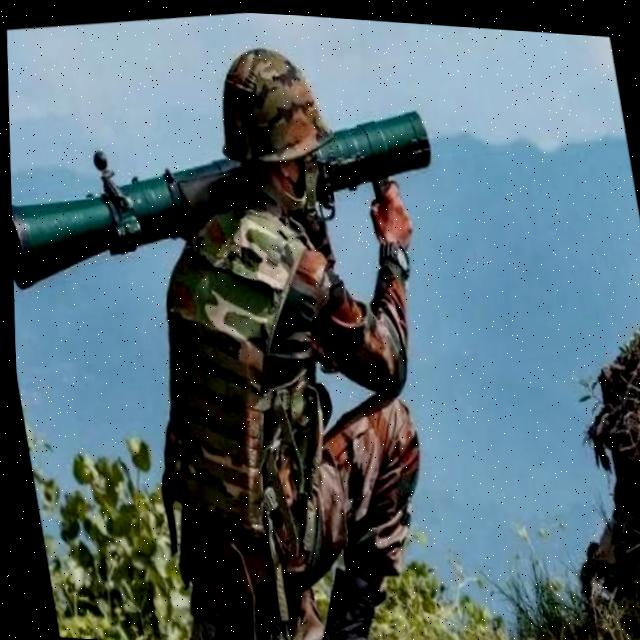rocket: (3, 65, 448, 319)
